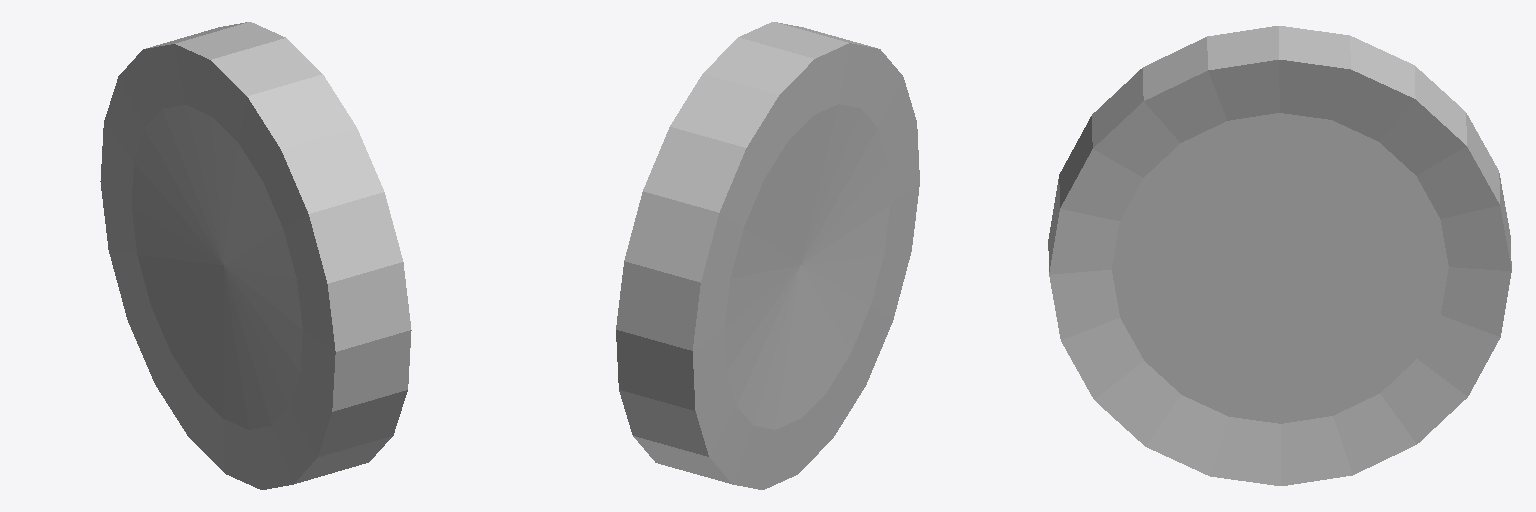
3 views of the same model, side by side, from view 1: azimuth 30°, elevation 25°; view 2: azimuth 150°, elevation 25°; view 3: azimuth 270°, elevation 25° (orthographic).
Visible parts, largest first — view 1: pointerup:pCylinder9; view 2: pointerup:pCylinder9; view 3: pointerup:pCylinder9.
Boxes of the visible parts, <box> form: pointerup:pCylinder9: <box>100,22,411,489</box>; pointerup:pCylinder9: <box>616,22,919,489</box>; pointerup:pCylinder9: <box>1048,26,1511,485</box>.
Bounding box in the file's own units: 19.41 × 84.24 × 83.81.